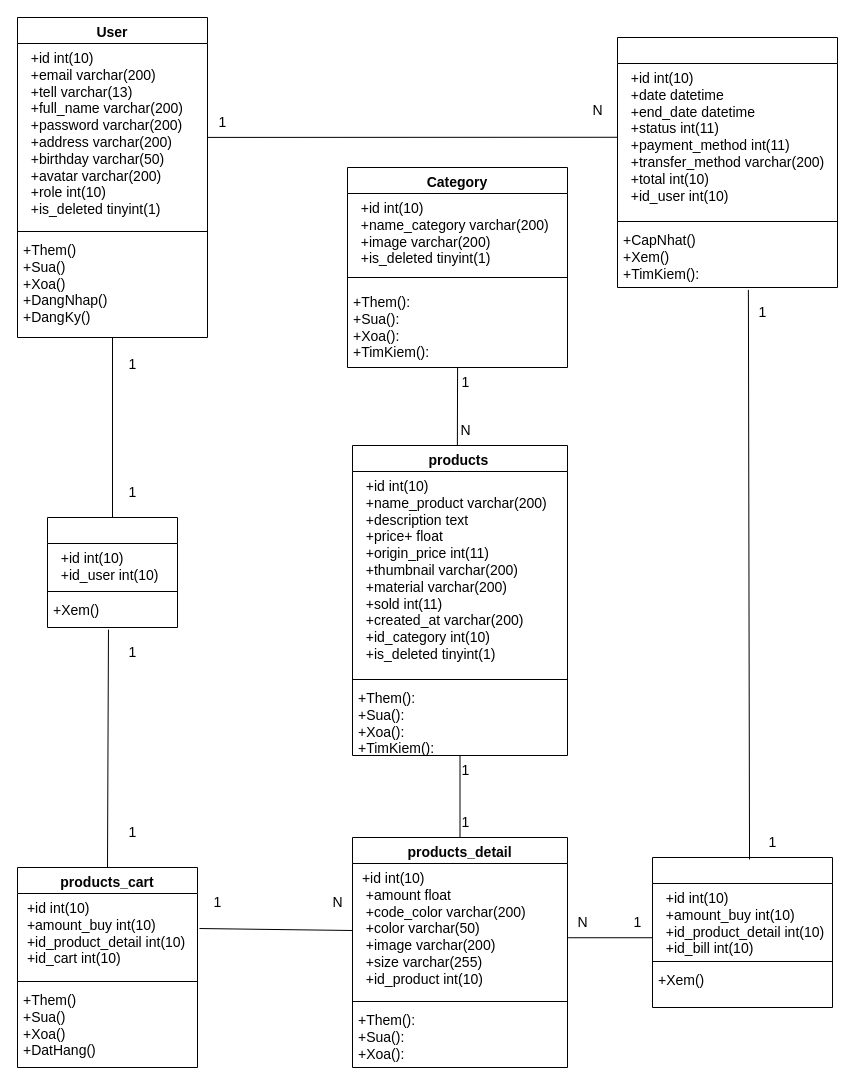
This 855x1088 diagram has some shape labels left out. The box of each missing label's shape, as (x1, y1, x2, y2) in pixels:
bills: (616, 36, 838, 288)
Cart: (46, 516, 178, 628)
products_bill: (652, 856, 832, 1008)
